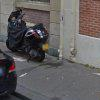Motorcycle: (3, 7, 52, 66)
